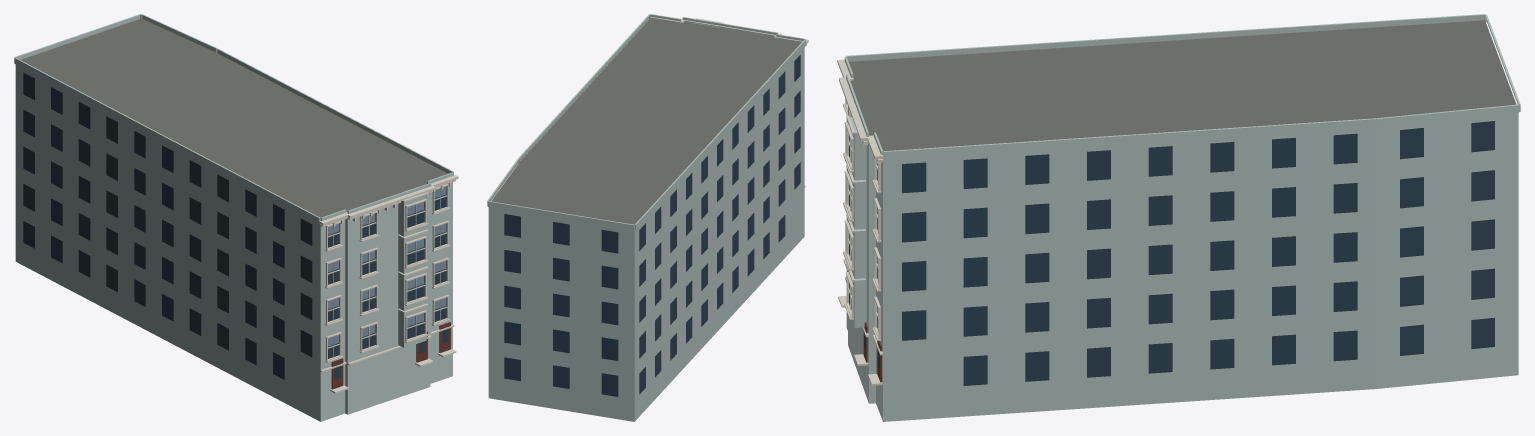
3 views of the same model, side by side, from view 1: azimuth 30°, elevation 25°; view 2: azimuth 150°, elevation 25°; view 3: azimuth 270°, elevation 25° (orthographic). The views are drawn at different scales.
Visible parts, largest first — view 1: Footprint 0 / surface 2, Footprint 0 / surface 1, Inset glazing, Facade bay volumes, Cornices and window frames, Sky reflection panels, Storefronts and doors; view 2: Footprint 0 / surface 2, Footprint 0 / surface 1, Inset glazing, Facade bay volumes; view 3: Footprint 0 / surface 2, Footprint 0 / surface 1, Inset glazing, Facade bay volumes, Cornices and window frames.
Part boxes in pixels (<box>): Footprint 0 / surface 2: <box>15,64,452,421</box>; Footprint 0 / surface 1: <box>21,18,447,217</box>; Inset glazing: <box>23,72,448,379</box>; Facade bay volumes: <box>14,14,453,347</box>; Cornices and window frames: <box>319,174,458,393</box>; Sky reflection panels: <box>328,186,446,346</box>; Storefronts and doors: <box>331,322,450,389</box>; Footprint 0 / surface 2: <box>488,47,804,421</box>; Footprint 0 / surface 1: <box>491,18,801,224</box>; Inset glazing: <box>504,55,800,396</box>; Facade bay volumes: <box>487,14,806,230</box>; Footprint 0 / surface 2: <box>846,106,1518,421</box>; Footprint 0 / surface 1: <box>848,20,1516,151</box>; Inset glazing: <box>849,121,1494,385</box>; Facade bay volumes: <box>844,14,1520,327</box>; Cornices and window frames: <box>837,59,883,385</box>.
Size of the model in its own units: 19.41 by 17.65 by 40.36.
